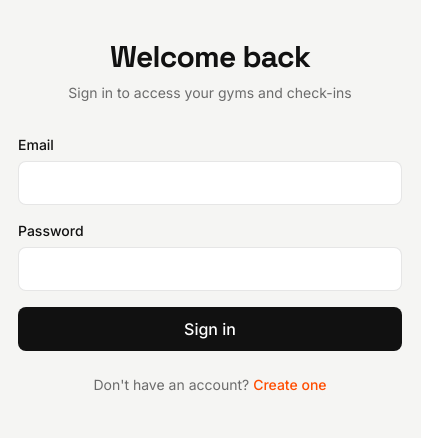
LoginPage › shows a form-level error for invalid credentials
Type "bad@example.com" into the field labelled "Email" at (210, 183), box [18,161,402,205]
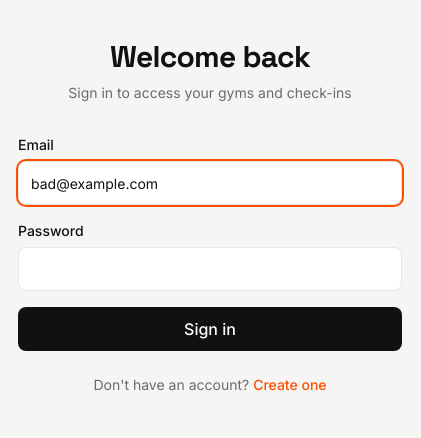
Type "password" into the password field labelled "Password" at (210, 269), box [18,247,402,291]
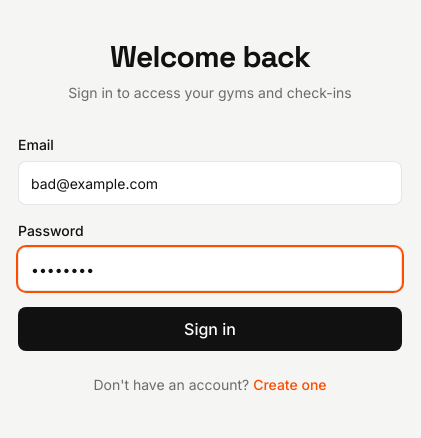
Click the button "Sign in" at (210, 329), box [18,307,402,351]
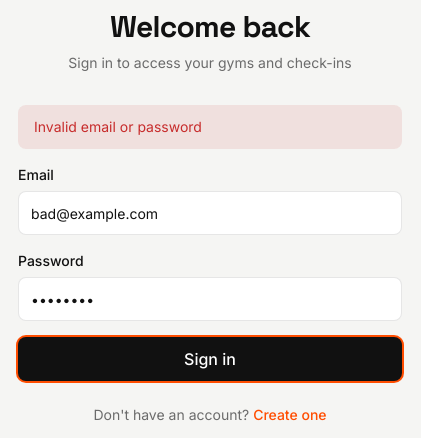
Now the text "Invalid email or password" is shown, box [18,105,402,149]
